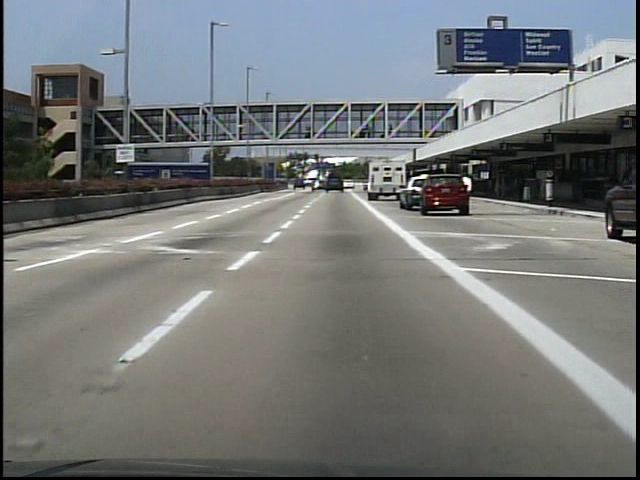person: (459, 173, 478, 212)
